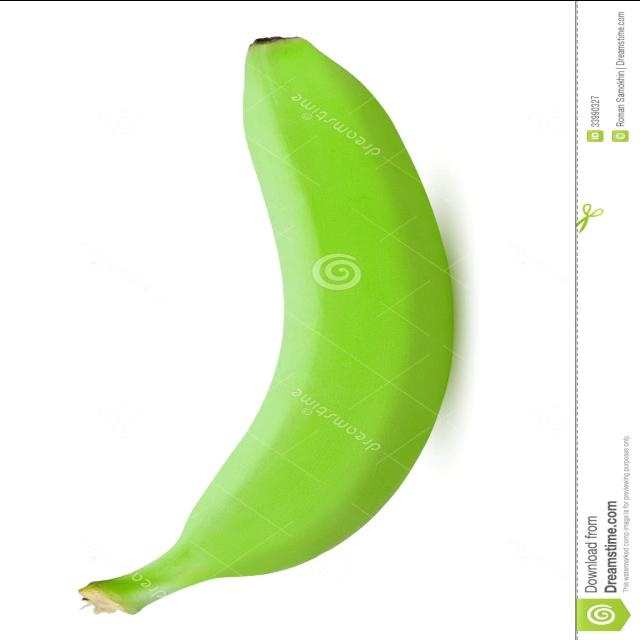agrume: (69, 33, 461, 617)
